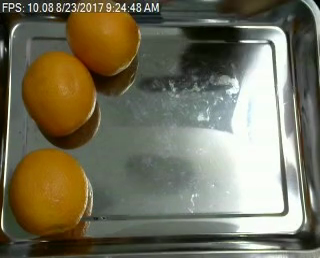Orange: (8, 148, 88, 235), (21, 51, 97, 134), (63, 1, 140, 74)
